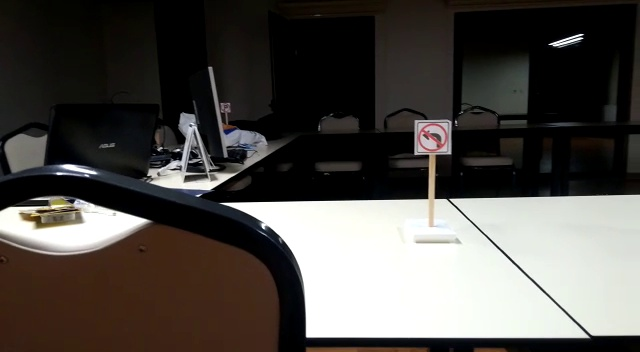sola_donulmez: (414, 120, 452, 157)
